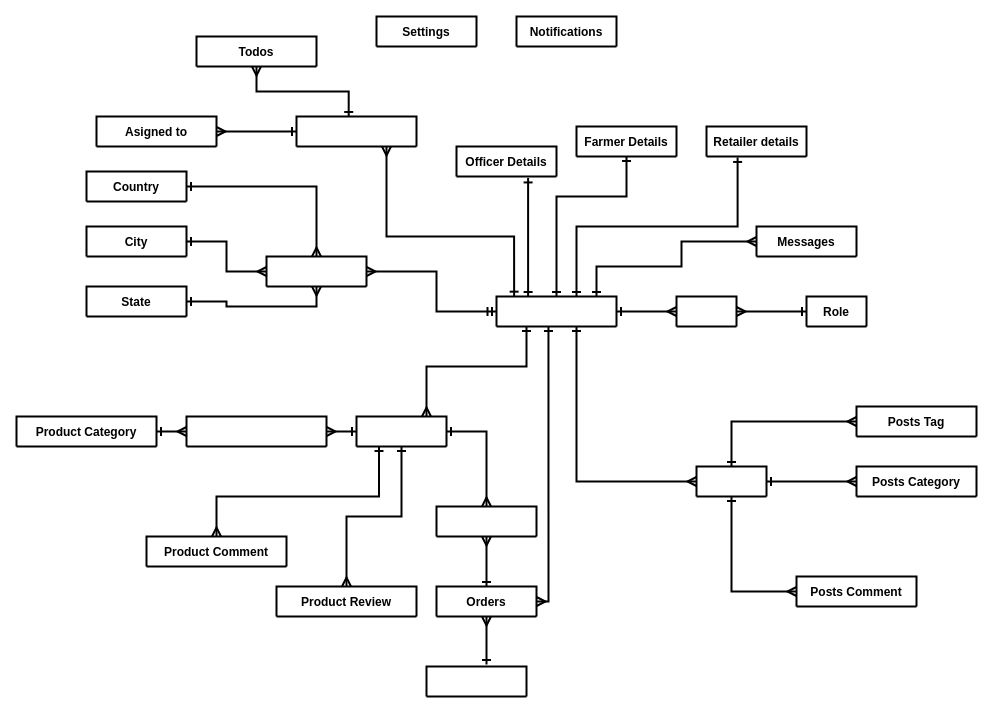
Some shapes in this 993 by 713 pixel diagram are drawn without their labels. The centre of each missing label's shape, as x and y in pixels:
"Address" goes at (x=316, y=271).
"category_product" goes at (x=256, y=431).
"order_product" goes at (x=486, y=521).
"Posts" goes at (x=731, y=481).
"Product" goes at (x=401, y=431).
"role_user" goes at (x=706, y=311).
"Shipping" goes at (x=476, y=681).
"Task" goes at (x=356, y=131).
"users" goes at (x=556, y=311).
